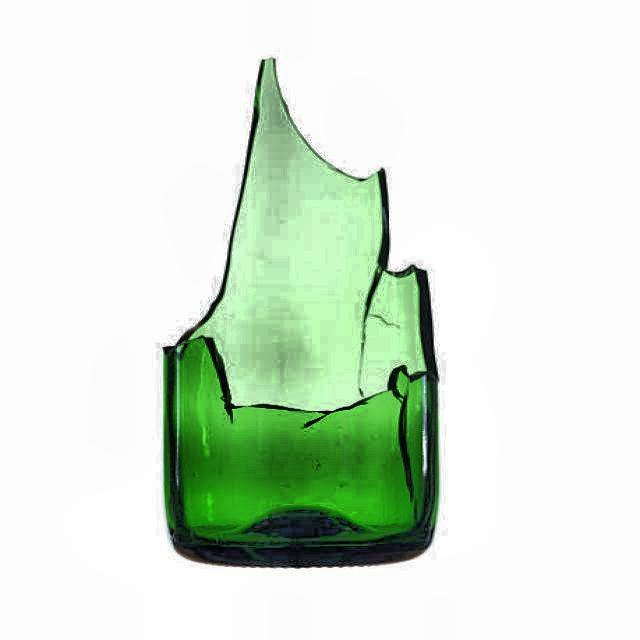glass: (161, 59, 442, 570)
